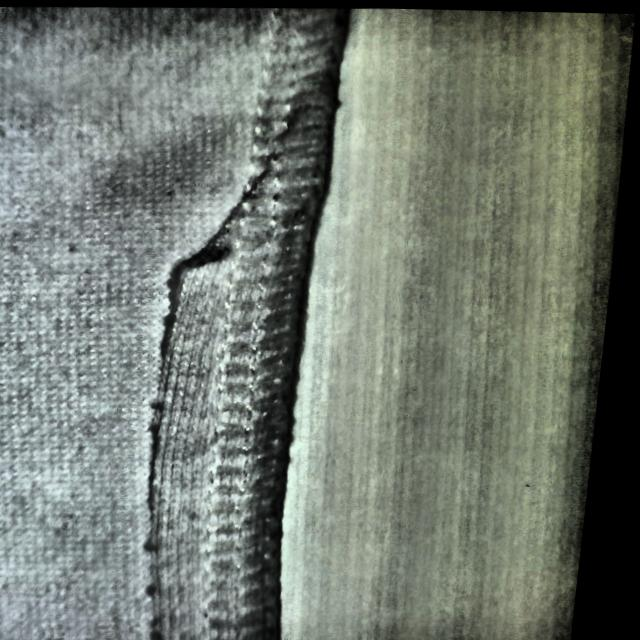seam: (99, 212, 328, 640)
